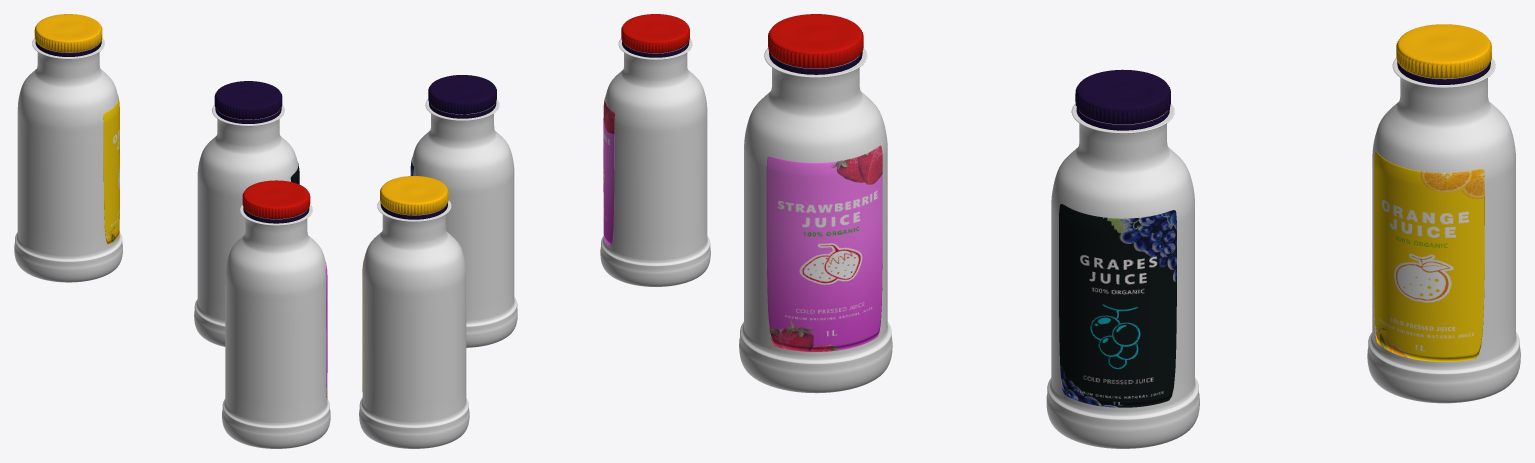
The model's file is Juice.fbx.
The picture shows the model from 3 angles, left to right: view 1: azimuth 30°, elevation 25°; view 2: azimuth 150°, elevation 25°; view 3: azimuth 270°, elevation 25°; orthographic projection. The views are drawn at different scales.
Parts seen in each view (by area): view 1: Cylinder.012, Cylinder.017, Cylinder.001, Cylinder.008, Cylinder.013, Cylinder.018, Cylinder.021, Cylinder.014, Cylinder.009; view 2: Cylinder.017, Cylinder.012, Cylinder.001, Cylinder.013, Cylinder.008, Cylinder.018, Cylinder.016; view 3: Cylinder.017, Cylinder.012, Cylinder.011, Cylinder.001, Cylinder.016, Cylinder.021, Cylinder.018, Cylinder.008, Cylinder.013.
Boxes of the visible parts, x1=… form: Cylinder.012: x1=222, y1=204, x2=330, y2=448; Cylinder.017: x1=14, y1=38, x2=122, y2=282; Cylinder.001: x1=194, y1=105, x2=298, y2=346; Cylinder.008: x1=214, y1=81, x2=282, y2=119; Cylinder.013: x1=242, y1=180, x2=310, y2=219; Cylinder.018: x1=34, y1=14, x2=102, y2=52; Cylinder.021: x1=103, y1=95, x2=119, y2=244; Cylinder.014: x1=243, y1=207, x2=309, y2=223; Cylinder.009: x1=215, y1=107, x2=281, y2=123; Cylinder.017: x1=359, y1=200, x2=469, y2=448; Cylinder.012: x1=600, y1=38, x2=710, y2=286; Cylinder.001: x1=412, y1=99, x2=517, y2=347; Cylinder.013: x1=621, y1=14, x2=689, y2=53; Cylinder.008: x1=428, y1=75, x2=496, y2=114; Cylinder.018: x1=380, y1=176, x2=448, y2=215; Cylinder.016: x1=603, y1=97, x2=615, y2=245; Cylinder.017: x1=1367, y1=58, x2=1520, y2=403; Cylinder.012: x1=739, y1=47, x2=892, y2=393; Cylinder.011: x1=1059, y1=204, x2=1176, y2=407; Cylinder.001: x1=1046, y1=103, x2=1199, y2=448; Cylinder.016: x1=766, y1=145, x2=882, y2=351; Cylinder.021: x1=1374, y1=151, x2=1484, y2=361; Cylinder.018: x1=1396, y1=24, x2=1491, y2=78; Cylinder.008: x1=1075, y1=69, x2=1170, y2=124; Cylinder.013: x1=768, y1=14, x2=863, y2=68.
Size of the model in its own units: 389 by 497 by 1065.
